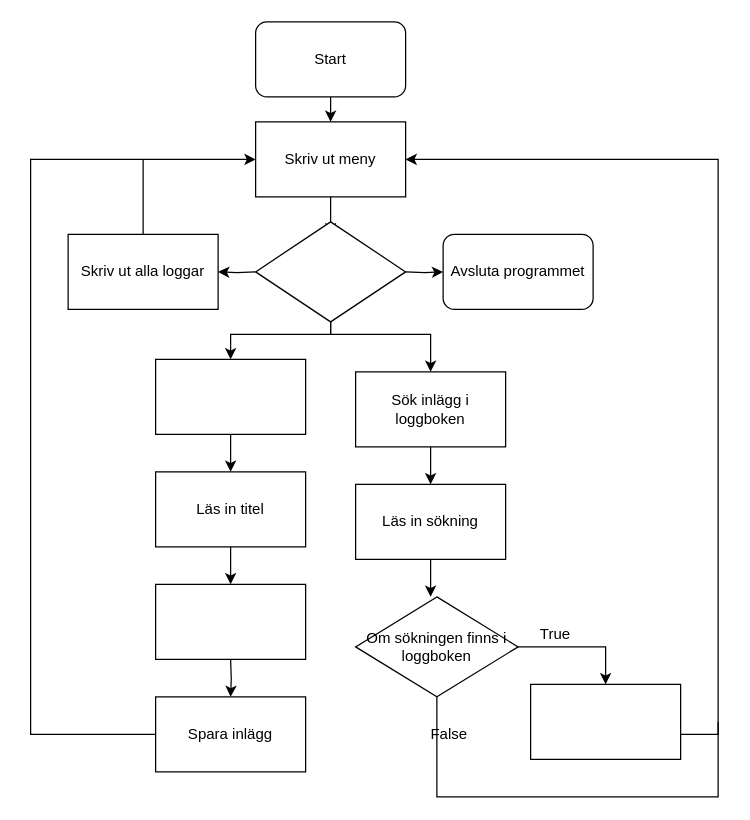
Some shapes in this 750 by 820 pixel diagram are drawn without their labels. Here are the shapes that lost their labels. From the top down, the centre of each, then its label:
At (x=330, y=271): "Välj i meny".
At (x=230, y=396): "Skriv nytt inlägg i loggboken".
At (x=230, y=621): "Läs in text".
At (x=605, y=721): "Skriv ut och presentera resultat".
